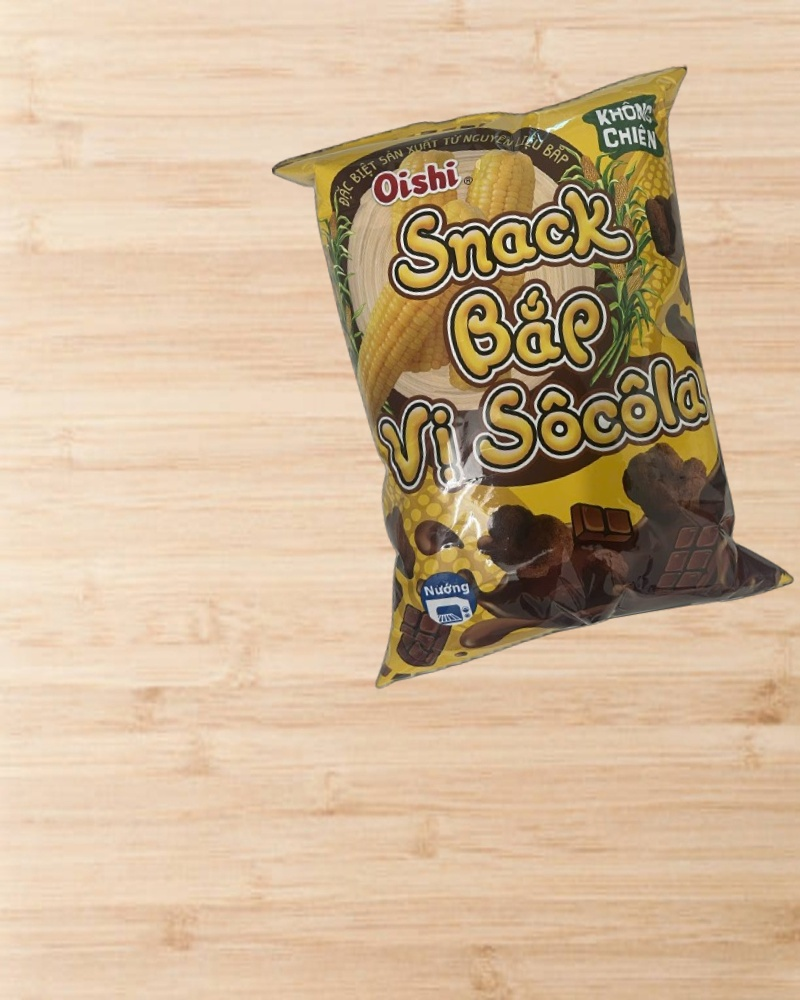Snack socola: (270, 66, 798, 679)
